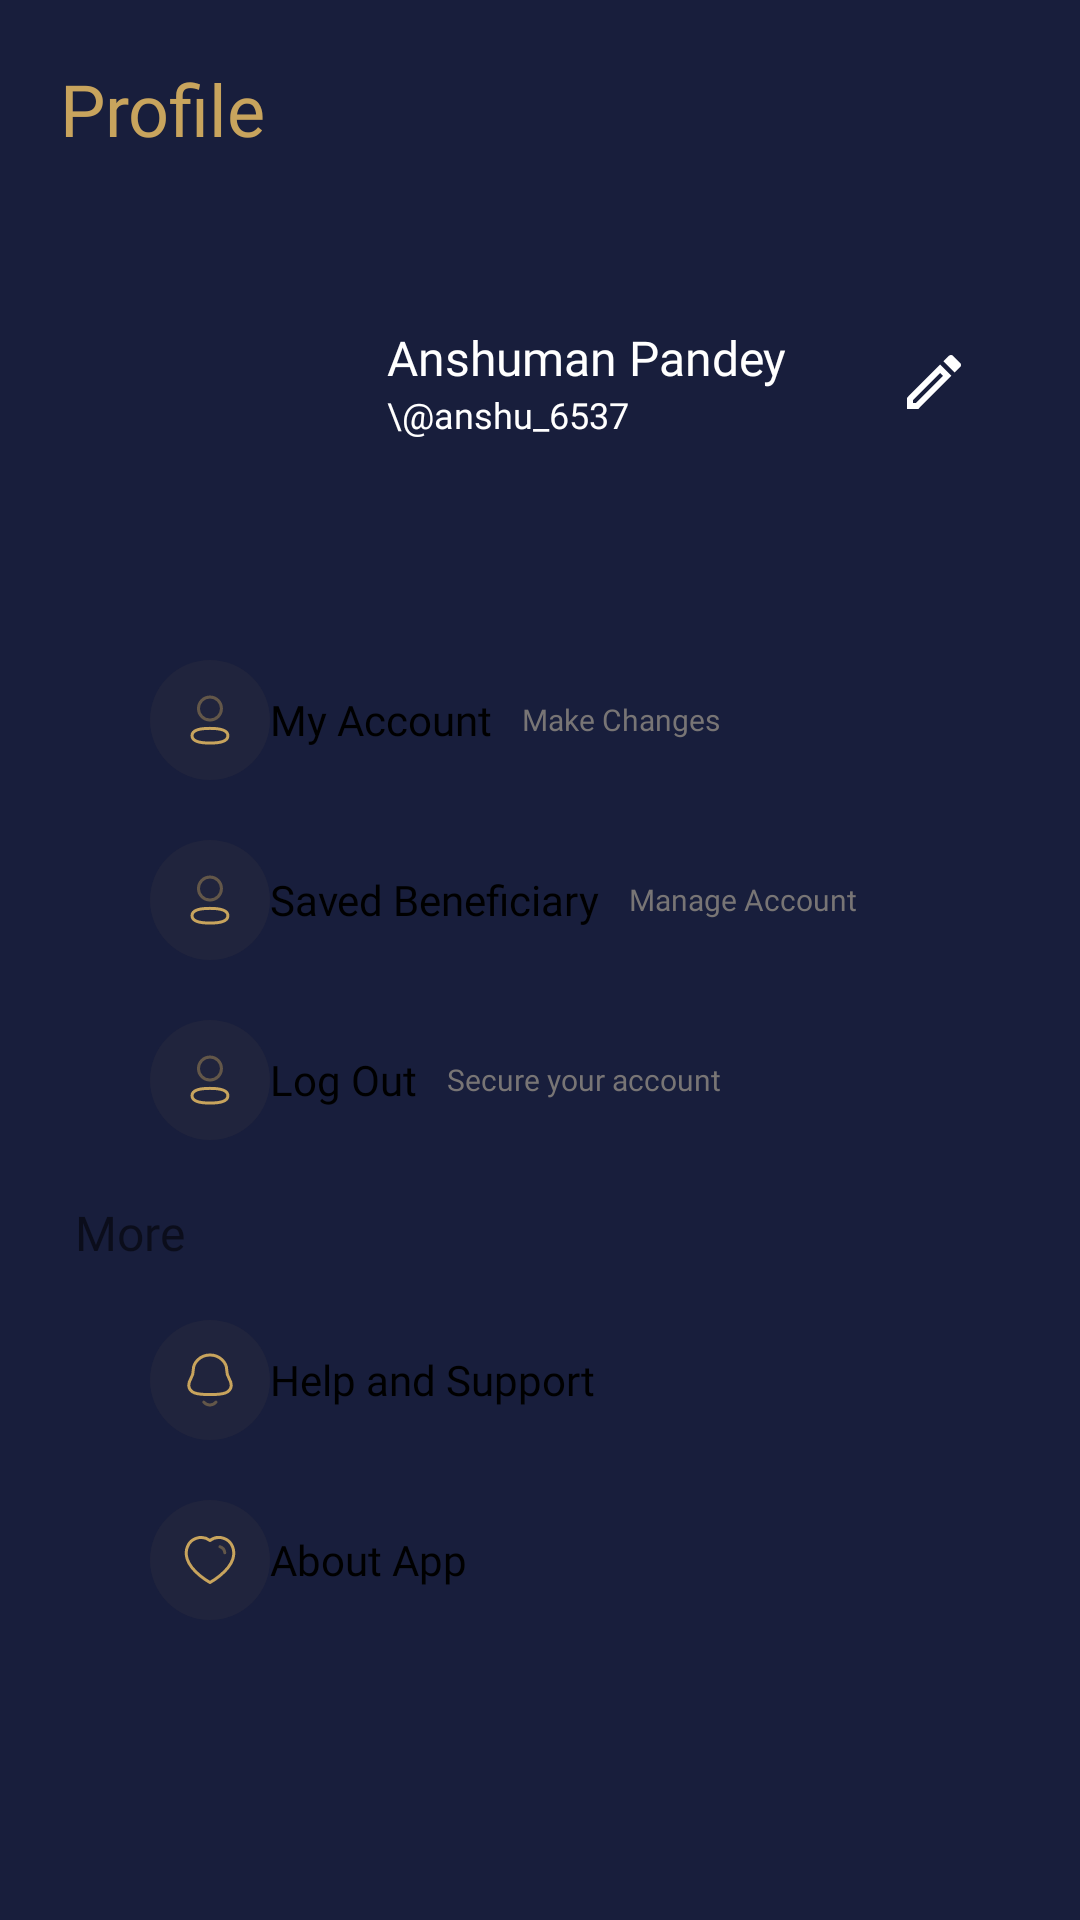

Icons on this 1080px×1920px Android screen, each with the point to tap as (x,y):
pen: (934,382)
profile: (210,720), (210,900), (210,1080)
